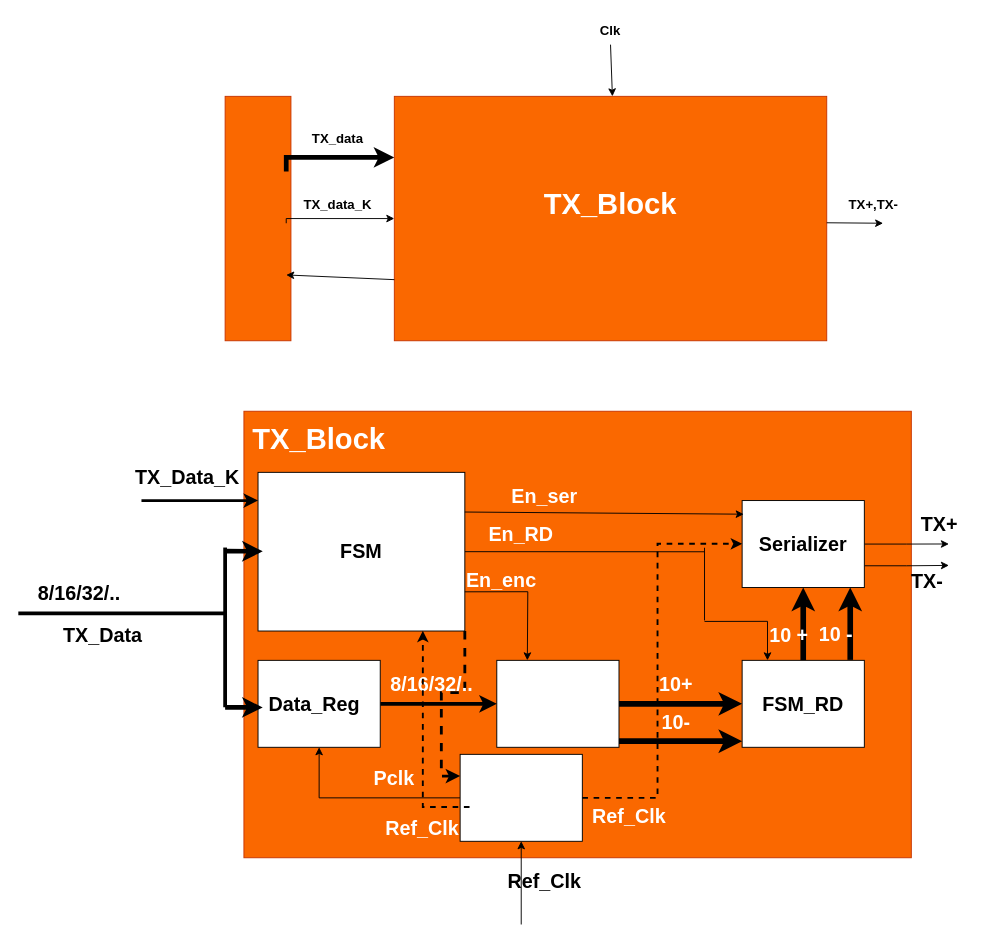
This 983x948 diagram has some shape labels left out. The box of each missing label's shape, as (x1, y1, x2, y2) in pixels:
8b/10b: (496, 659, 619, 747)
M A C: (224, 95, 291, 341)
PLL: (459, 753, 582, 841)
